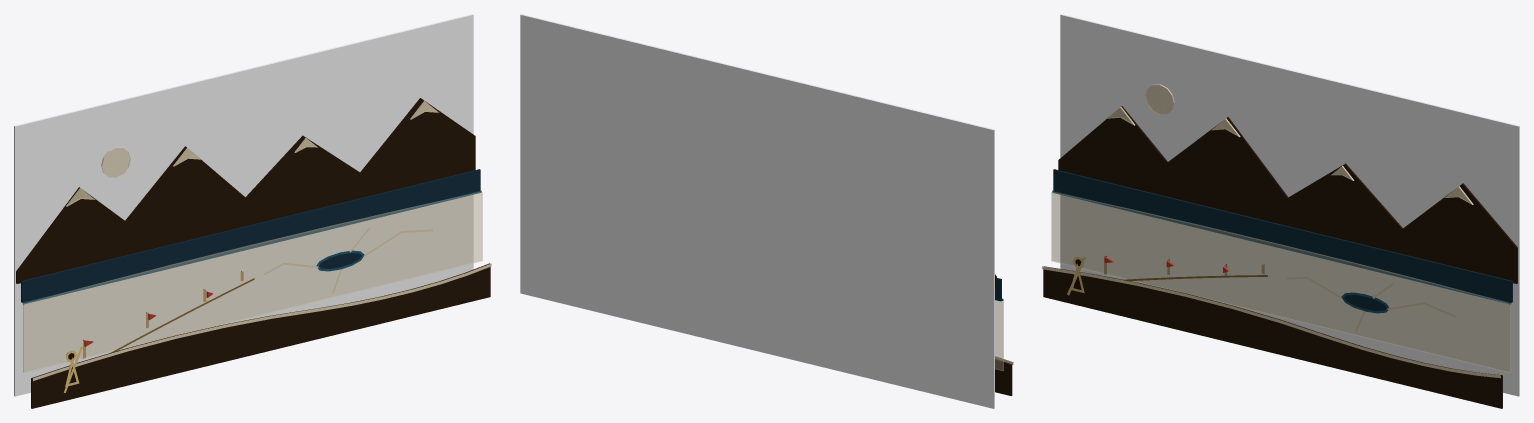
Rendered from loc-led-zaliva.glb.
The picture shows the model from 3 angles, left to right: view 1: azimuth 30°, elevation 25°; view 2: azimuth 150°, elevation 25°; view 3: azimuth 330°, elevation 25°; orthographic projection. The views are drawn at different scales.
Parts seen in each view (by area): view 1: loc-led-zaliva; view 2: loc-led-zaliva; view 3: loc-led-zaliva.
Boxes of the visible parts, x1,y1,x2,y2 form: loc-led-zaliva: [14, 14, 491, 408]; loc-led-zaliva: [520, 14, 1013, 408]; loc-led-zaliva: [1042, 14, 1519, 408].
Bounding box in the file's own units: 5.34 × 3 × 0.441.
